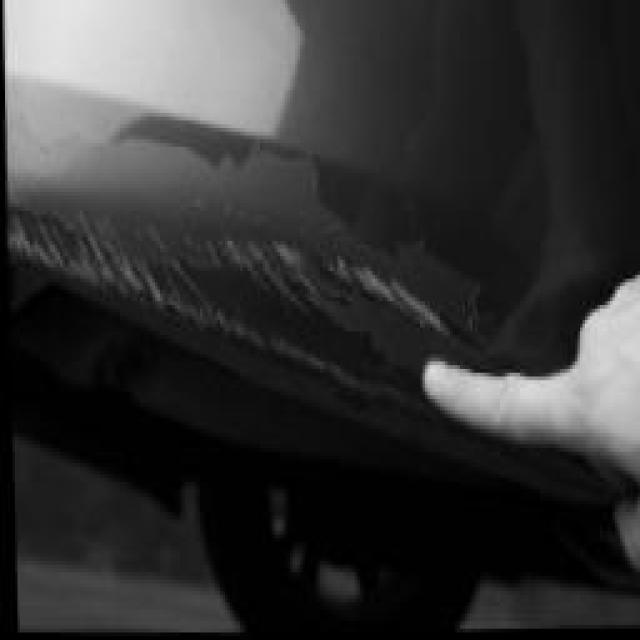Bumper: (2, 68, 533, 423)
